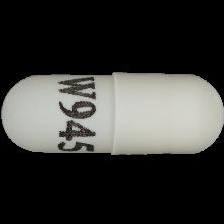64679-945: (0, 0, 224, 224)
